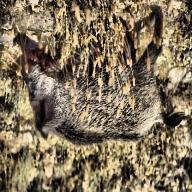boar: (22, 10, 180, 146)
